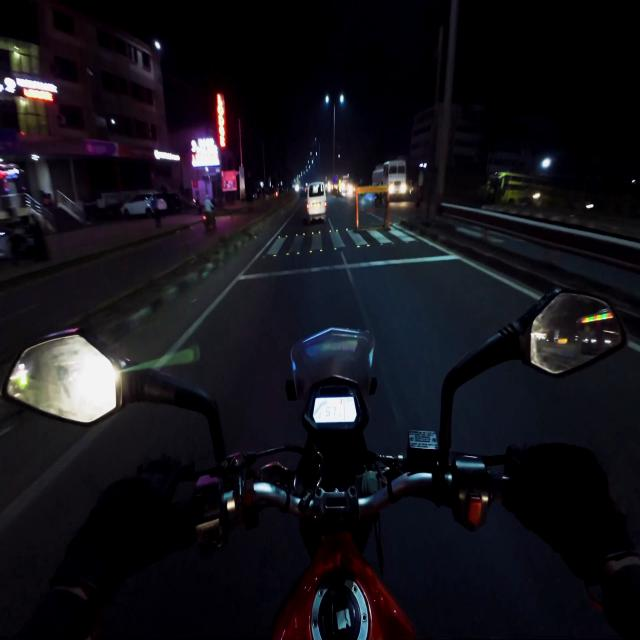car: (307, 182, 326, 222)
motorcycle: (2, 290, 625, 639)
